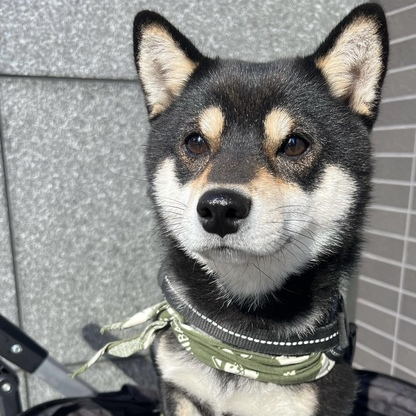shiba: (128, 1, 396, 416)
